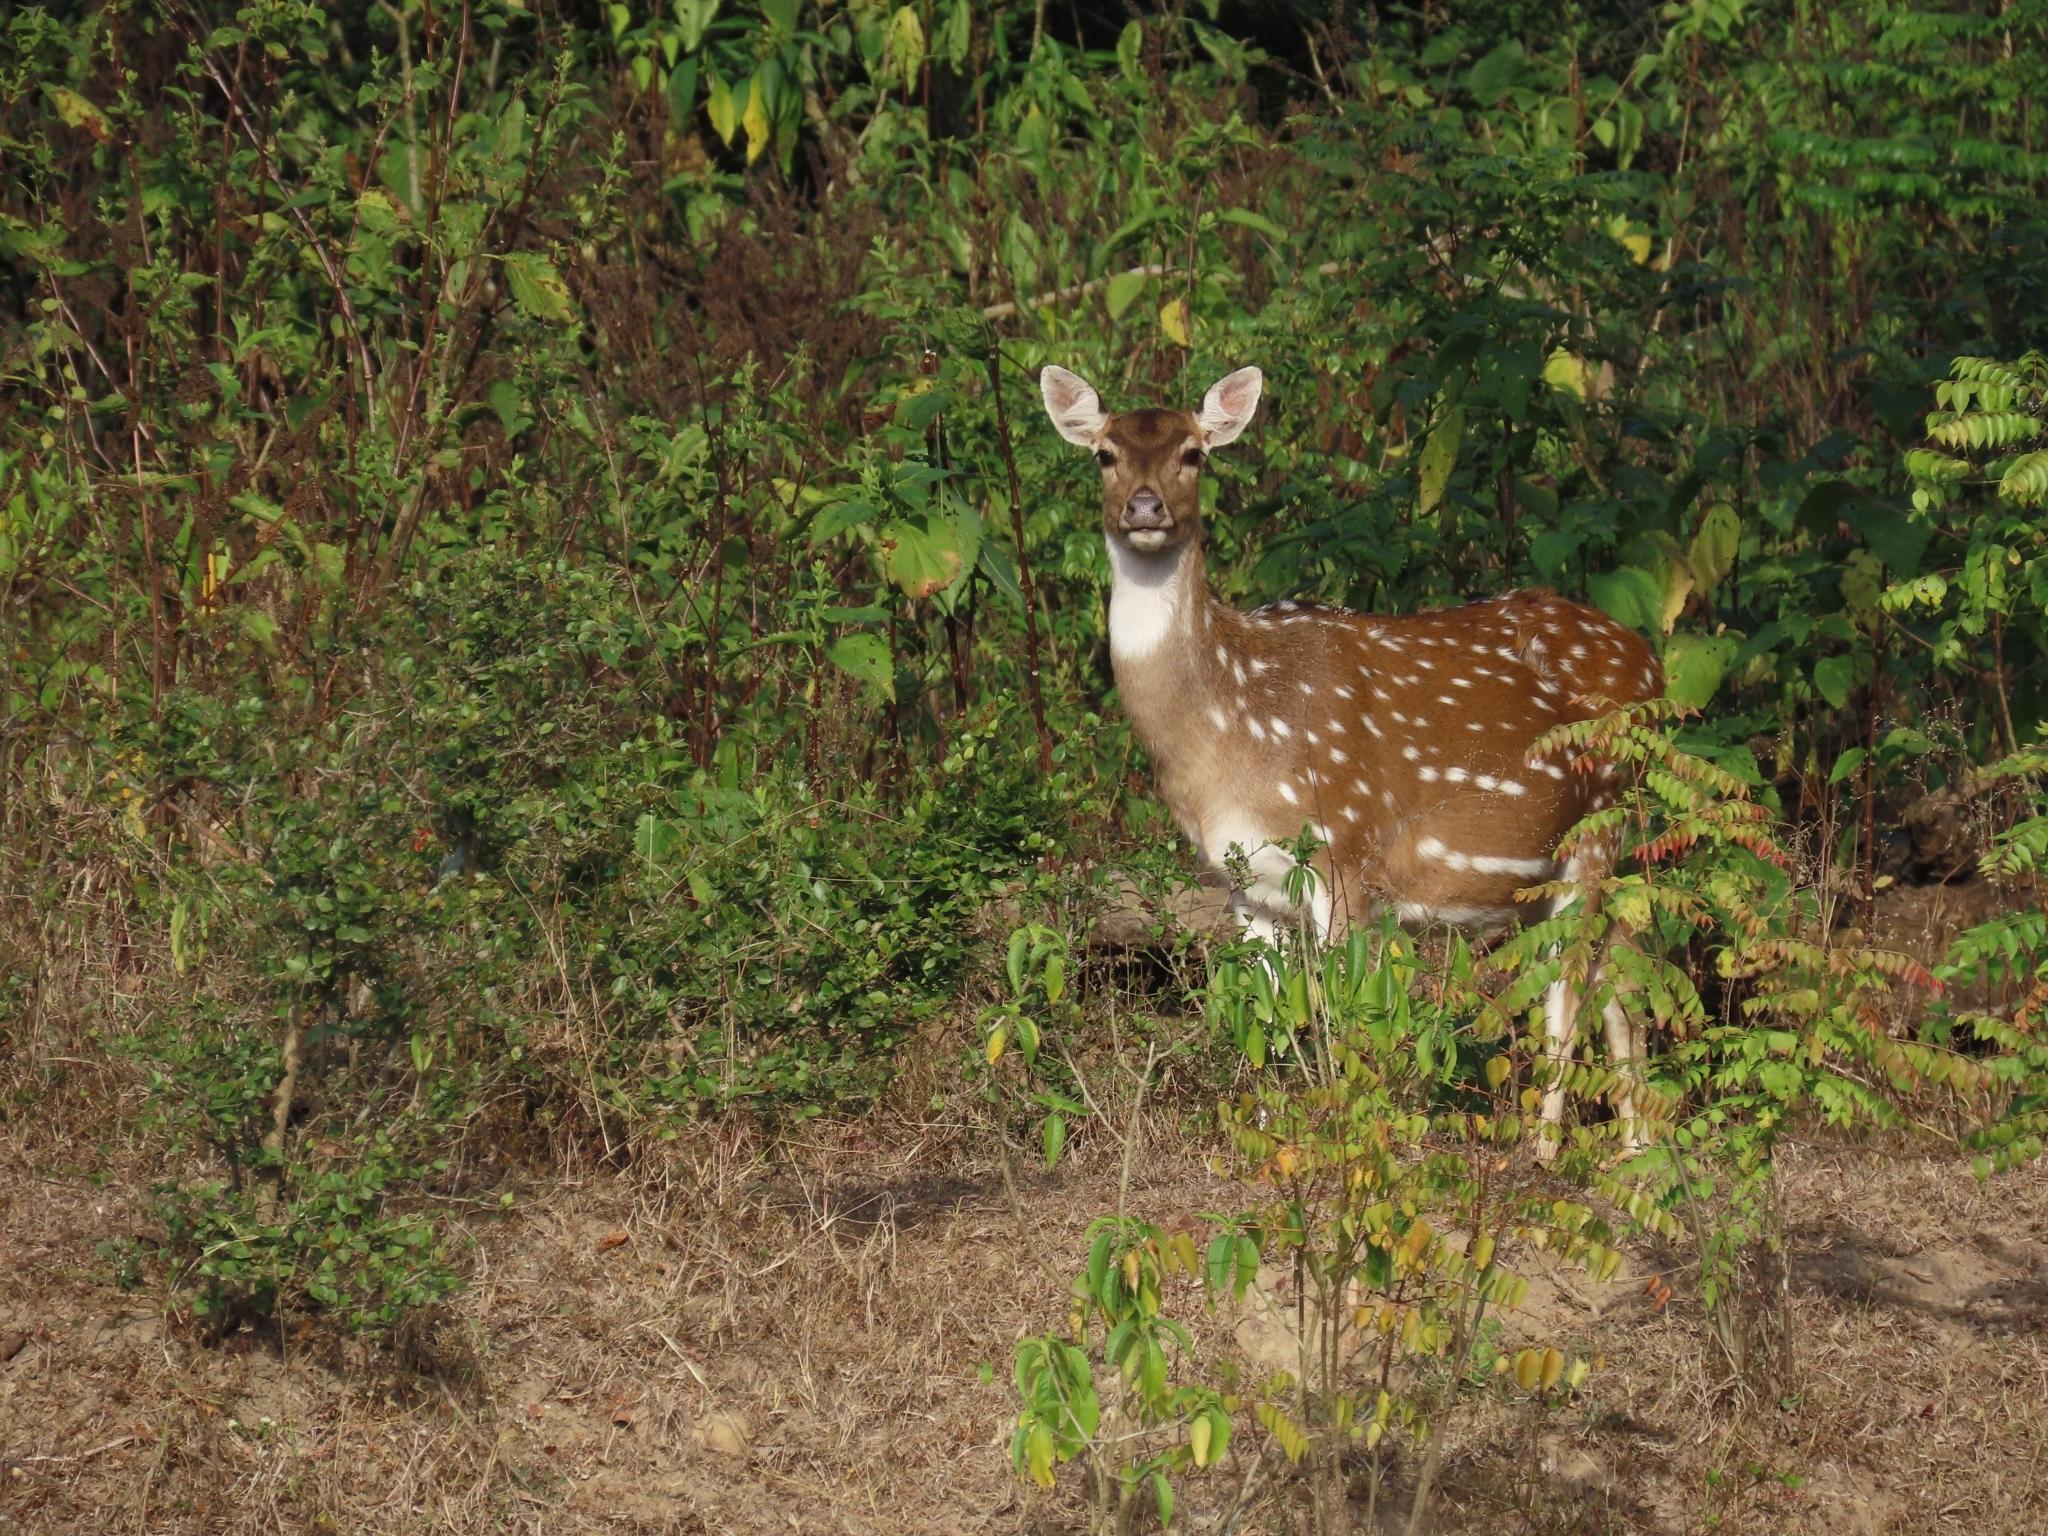Deer: (1040, 366, 1664, 941)
